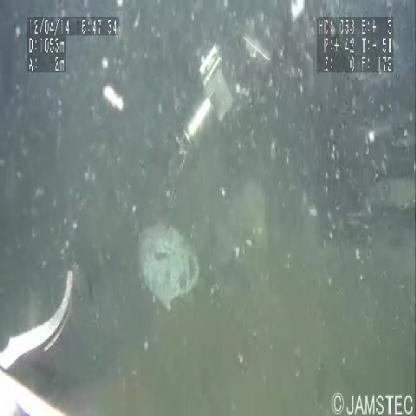Rác: (138, 217, 202, 311)
